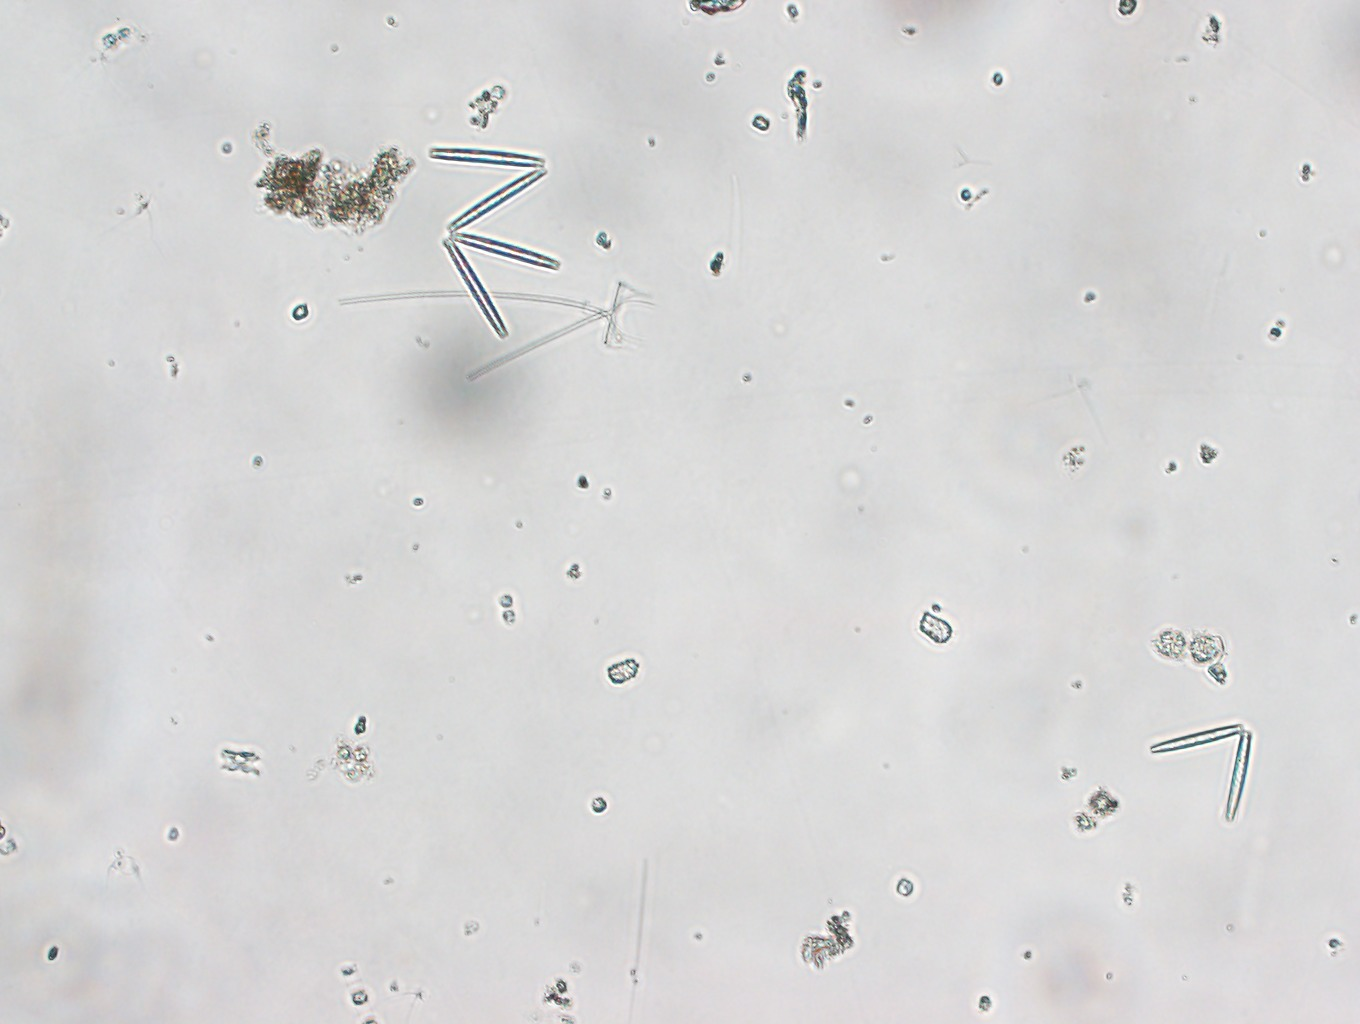thalassionema nitzschioides: (419, 142, 563, 341), (1142, 711, 1260, 825)
